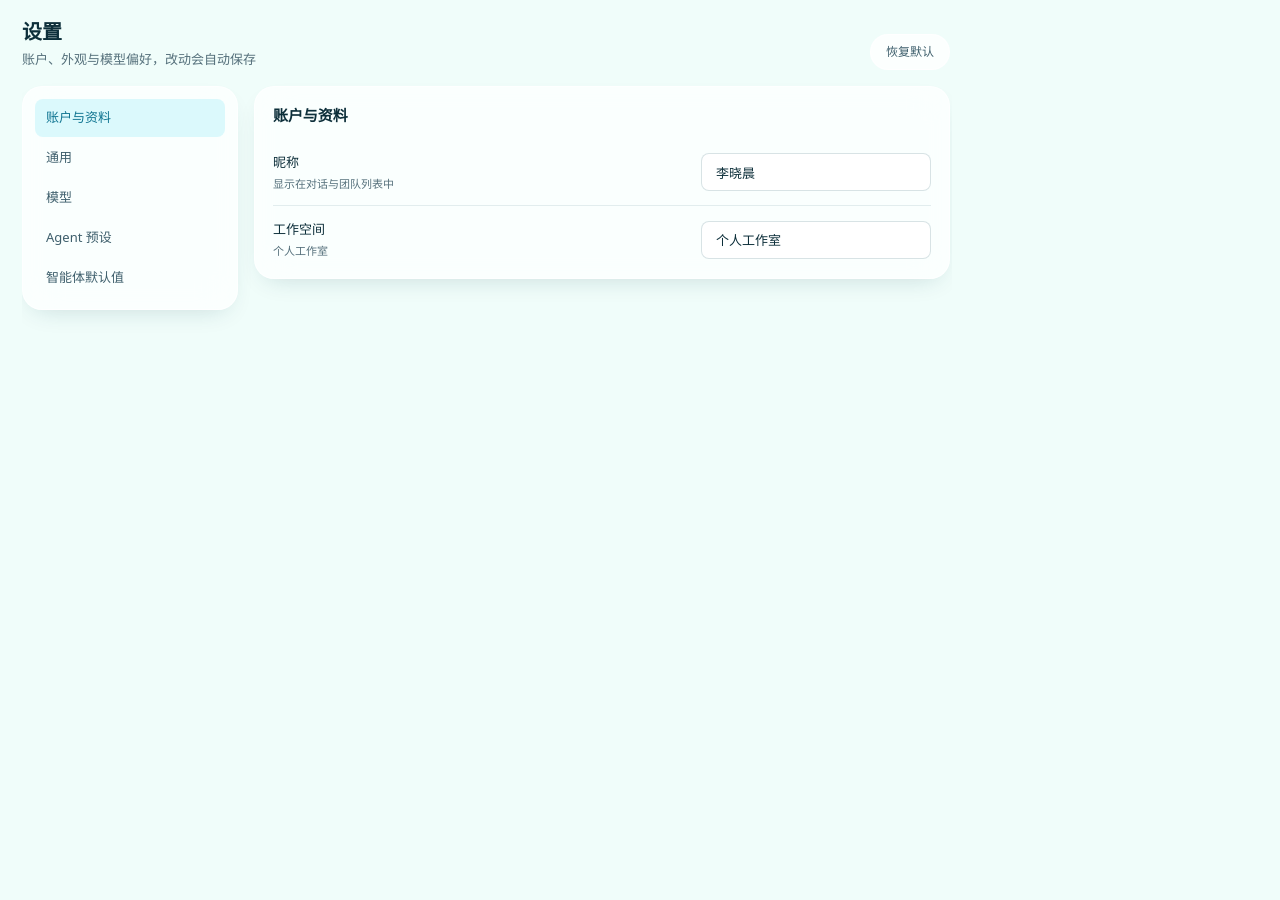
Test: 模式说明 opens a read-only help dialog with the native explanation
Expected: the heading "设置" is shown, [22,18,62,45]
Click the button "Agent 预设" at (130, 238), box [35,219,225,257]
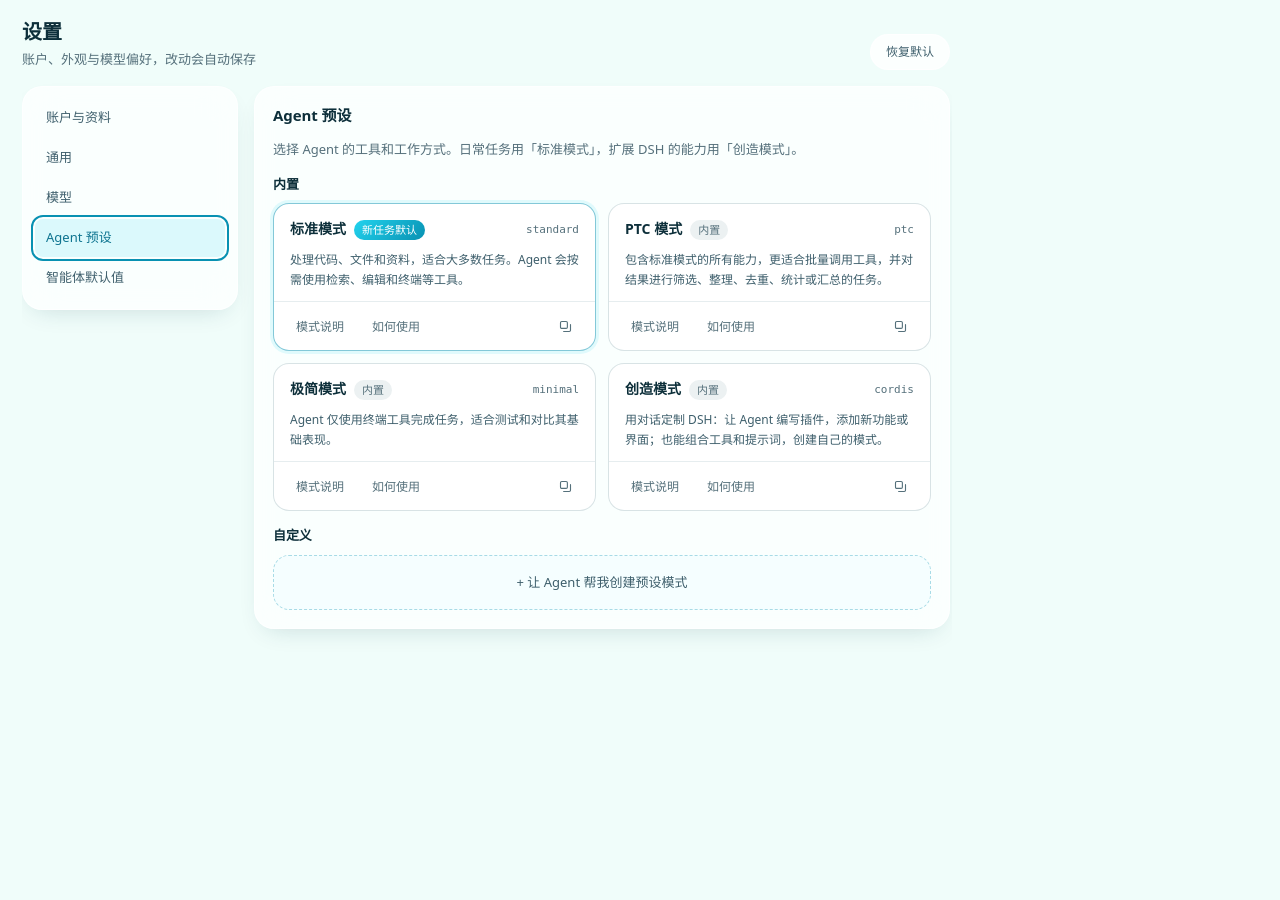
Click the 1st button "模式说明" at (320, 326), box [290,316,350,337]
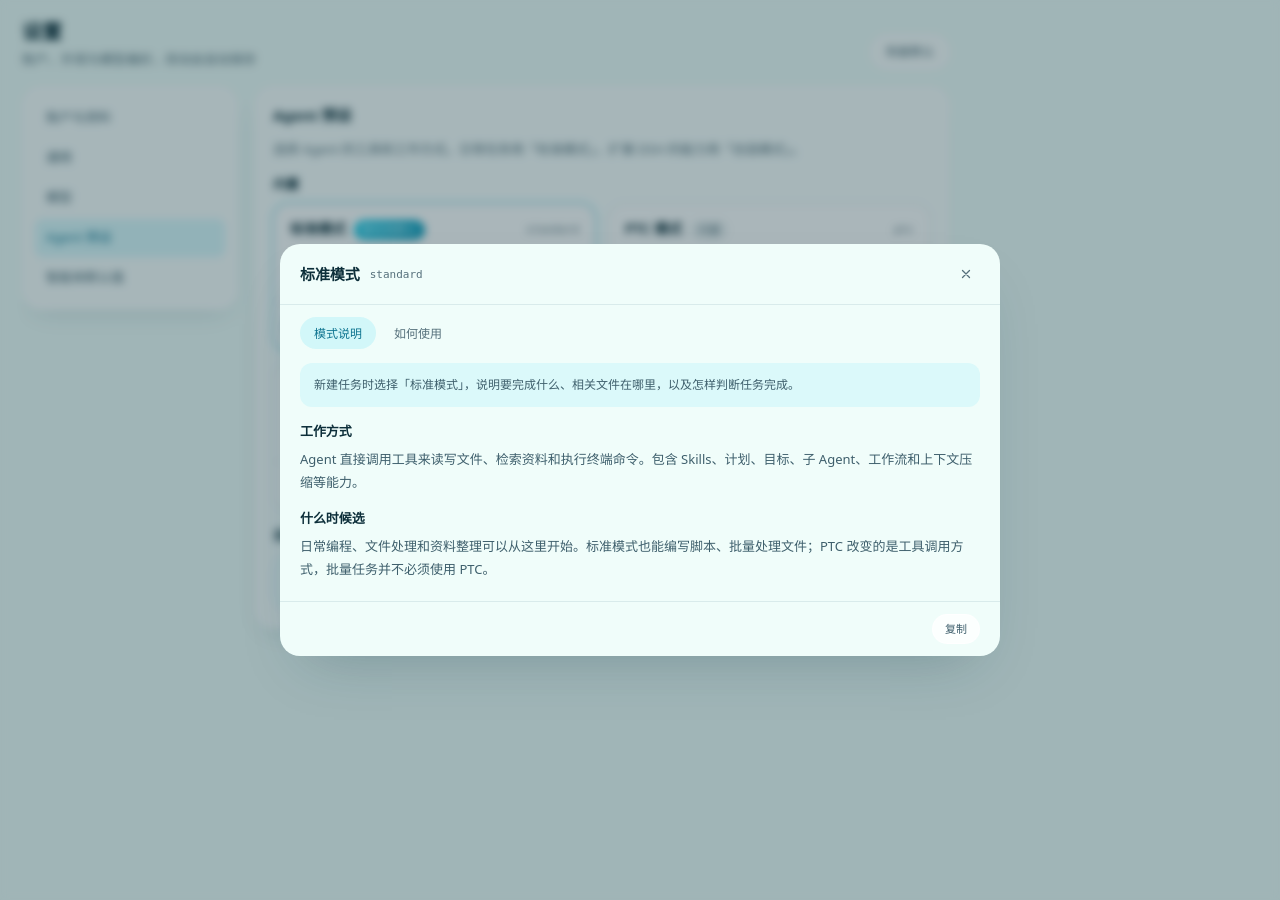
Expected: the text "新建任务时选择「标准模式」，说明要完成什么、相关文件在哪里，以及怎样判断任务完成。" is shown, [300,363,980,407]
Expected: the heading "工作方式" is shown, [300,422,352,440]
Expected: the text "包含 Skills、计划、目标、子 Agent" is shown, [300,450,972,491]
